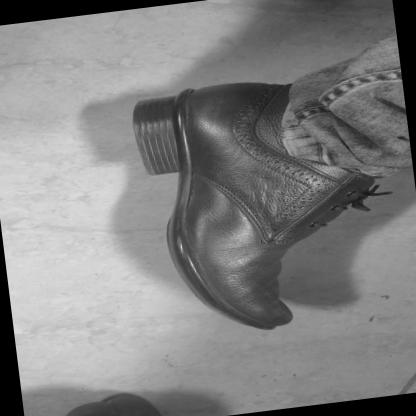ankle: (274, 139, 289, 146)
heel: (213, 85, 228, 92)
left_foot: (132, 68, 387, 344)
pinky: (276, 305, 284, 309)
toe: (269, 318, 282, 324)
